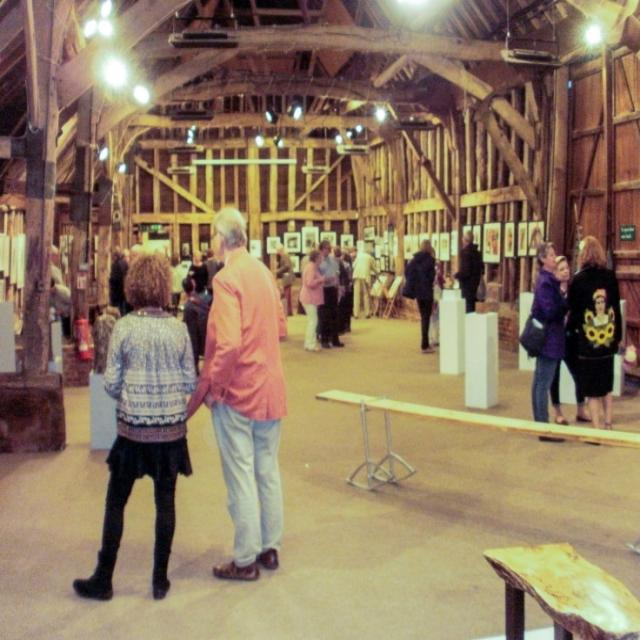body: (71, 250, 202, 602), (177, 204, 289, 583), (560, 234, 625, 431), (530, 240, 571, 444), (548, 254, 594, 425), (400, 237, 437, 353), (297, 251, 336, 352), (316, 238, 344, 349), (452, 228, 487, 313), (90, 291, 122, 376), (181, 277, 211, 366), (351, 242, 382, 320), (584, 285, 616, 351), (487, 218, 543, 255), (337, 241, 359, 328), (170, 237, 224, 272), (107, 243, 130, 319), (428, 246, 444, 350), (273, 242, 295, 317), (50, 244, 64, 360), (49, 278, 72, 340), (167, 252, 186, 319), (296, 242, 312, 319), (187, 249, 210, 289), (118, 237, 137, 260)
